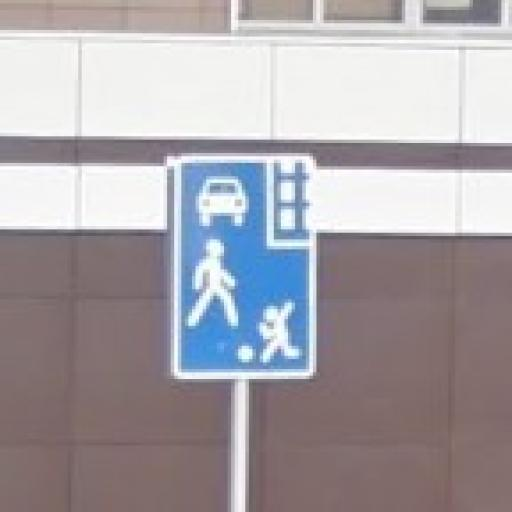traffic_sign: (175, 154, 321, 380)
